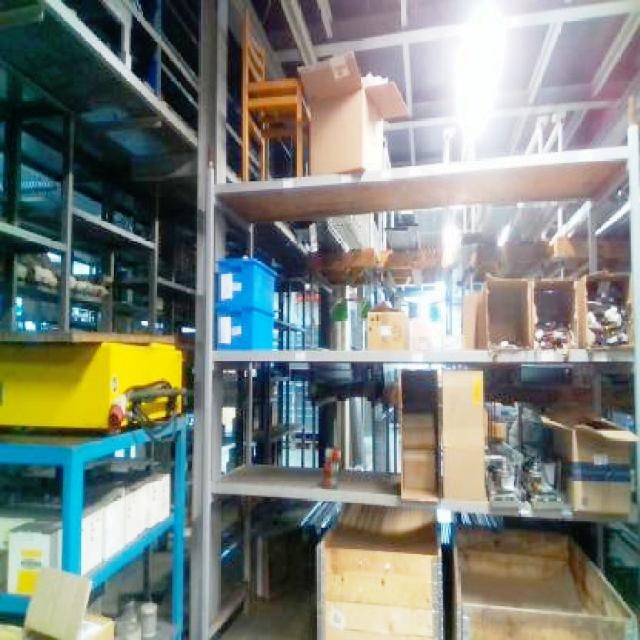pallet: (200, 118, 638, 638), (0, 412, 191, 628), (448, 523, 638, 638), (314, 502, 445, 638), (458, 268, 634, 351), (395, 366, 489, 505), (238, 9, 306, 180), (537, 405, 638, 517), (0, 565, 115, 638), (395, 368, 438, 503)
